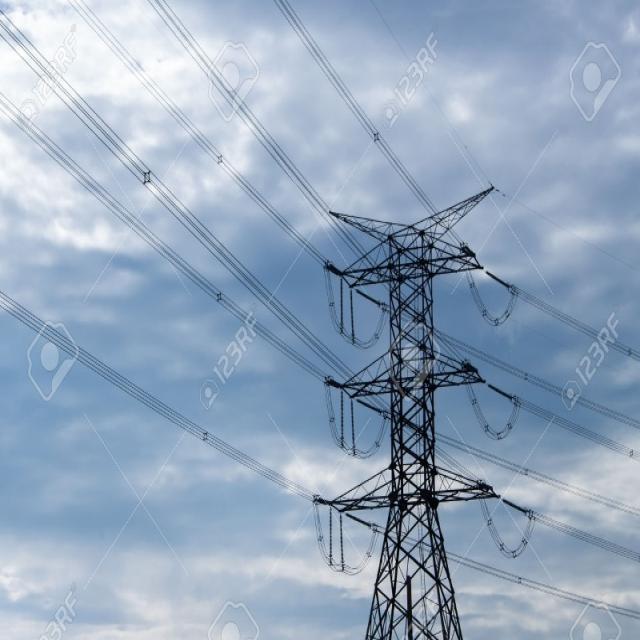non-critical vegetation: (304, 179, 514, 632)
